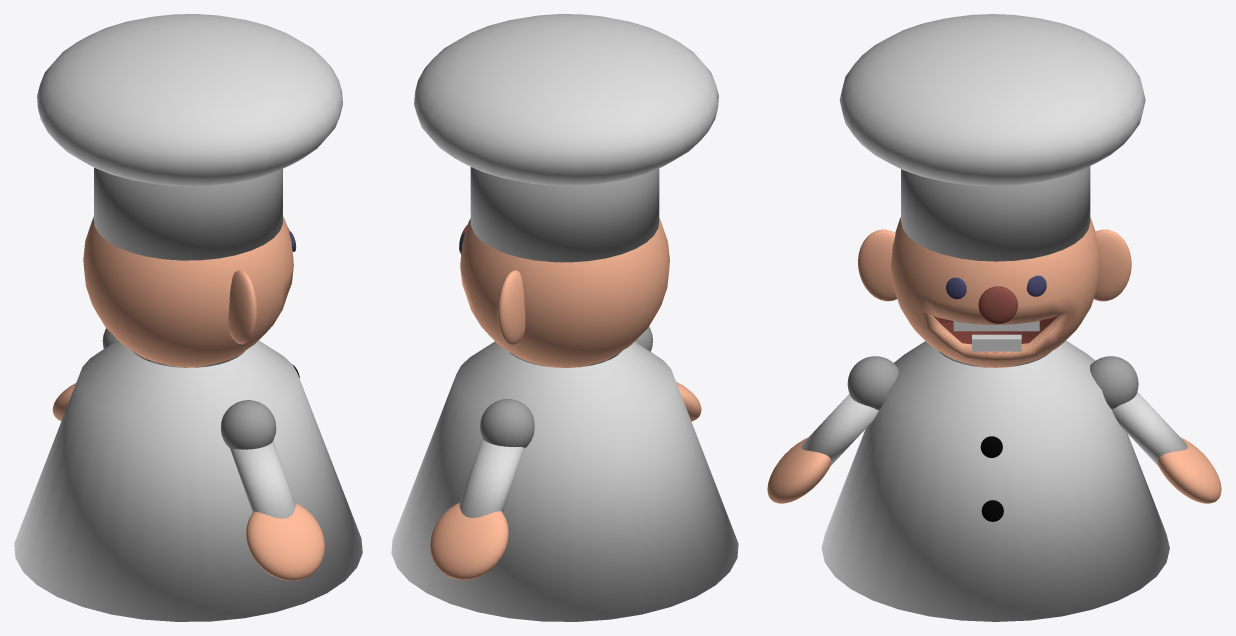
File: Chef.fbx
3 renders of one model, left to right at view 1: azimuth 30°, elevation 25°; view 2: azimuth 150°, elevation 25°; view 3: azimuth 270°, elevation 25°, orthographic.
Parts seen in each view (by area): view 1: Cone; view 2: Cone; view 3: Cone.
Part boxes in pixels (x1=…): Cone: x1=14, y1=14, x2=362, y2=621; Cone: x1=391, y1=14, x2=738, y2=621; Cone: x1=767, y1=14, x2=1221, y2=621.
Size of the model in its own units: 200 by 349 by 261.
